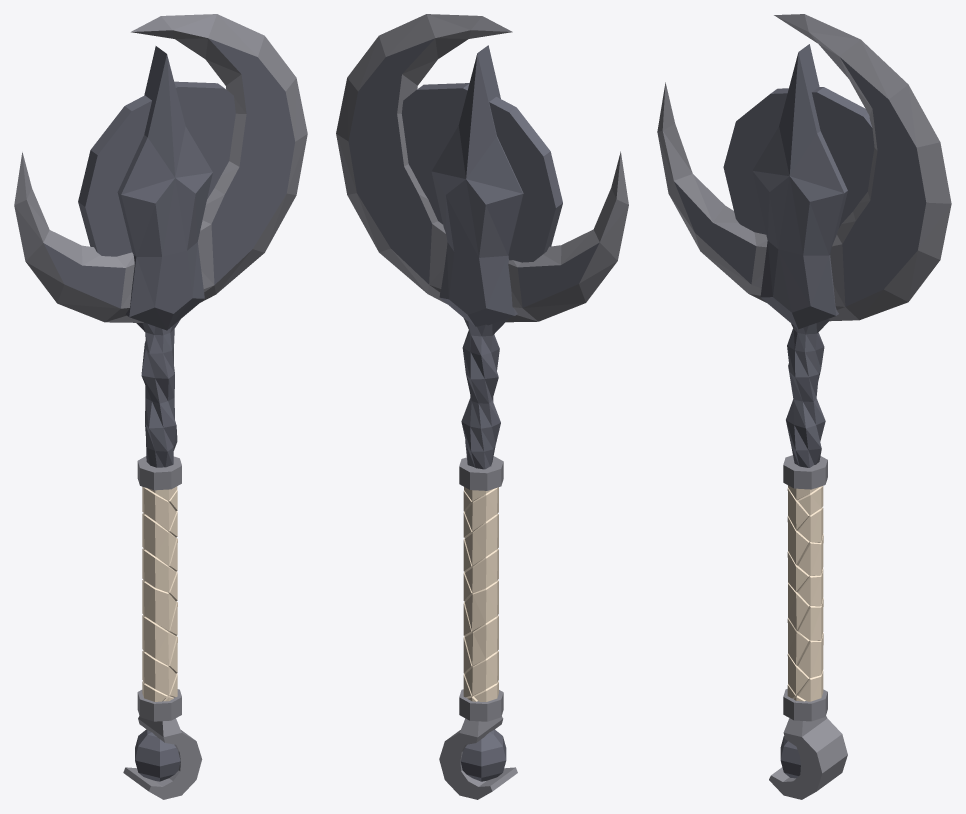
Rendered from hammer_hammer_21.glb.
3 views of the same model, side by side, from view 1: azimuth 30°, elevation 25°; view 2: azimuth 150°, elevation 25°; view 3: azimuth 330°, elevation 25° (orthographic).
Visible parts, largest first — view 1: hammer_21; view 2: hammer_21; view 3: hammer_21.
Part boxes in pixels (left/top/right/bottom): hammer_21: left=14, top=14, right=307, bottom=799; hammer_21: left=336, top=14, right=628, bottom=799; hammer_21: left=657, top=14, right=951, bottom=799.
Size of the model in its own units: 32.59 by 82.03 by 6.04.
Materials: 1 (1 with a texture image).
